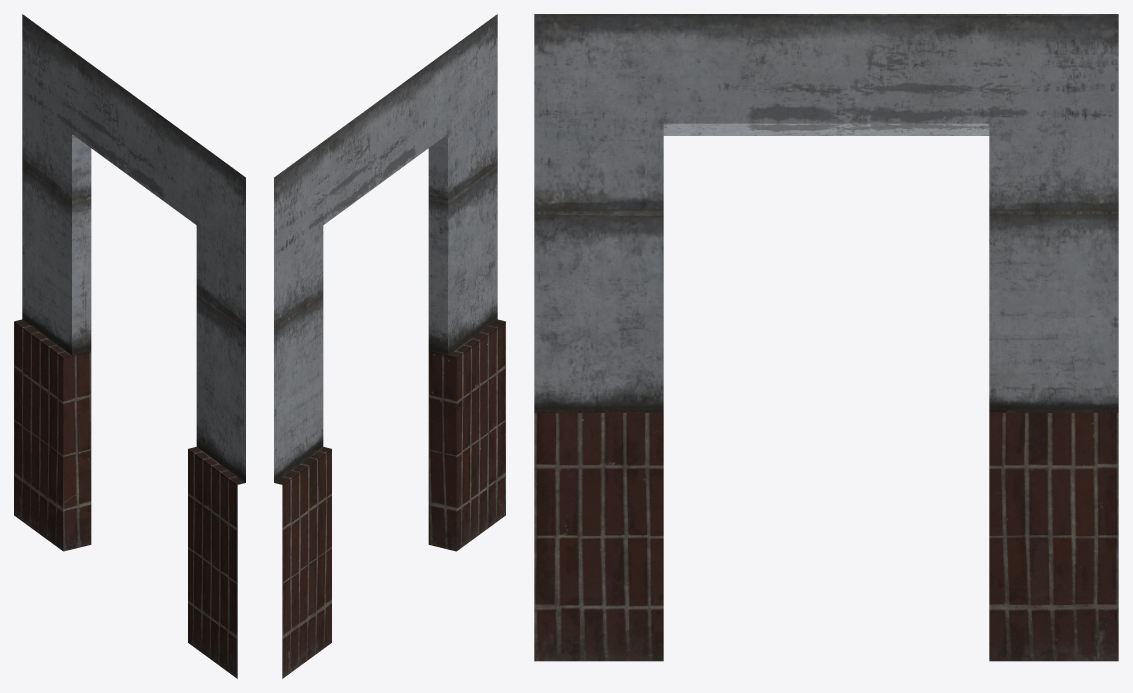
The model's file is Psychiatric_Ward_Guards_Room_Interior_Wall_2m_Door.glb.
3 views of the same model, side by side, from view 1: azimuth 30°, elevation 25°; view 2: azimuth 150°, elevation 25°; view 3: azimuth 270°, elevation 25° (orthographic). The views are drawn at different scales.
Visible parts, largest first — view 1: Psychiatric_Ward_Guards_Room_Interior_Wall_2m_Door; view 2: Psychiatric_Ward_Guards_Room_Interior_Wall_2m_Door; view 3: Psychiatric_Ward_Guards_Room_Interior_Wall_2m_Door.
Part boxes in pixels (box(x1,y1,x2,y2)): Psychiatric_Ward_Guards_Room_Interior_Wall_2m_Door: box(14, 14, 245, 678); Psychiatric_Ward_Guards_Room_Interior_Wall_2m_Door: box(274, 14, 505, 678); Psychiatric_Ward_Guards_Room_Interior_Wall_2m_Door: box(534, 14, 1118, 661).
Bounding box in the file's own units: 0.1437 × 2.47 × 2.
Materials: 1 (1 with a texture image).
